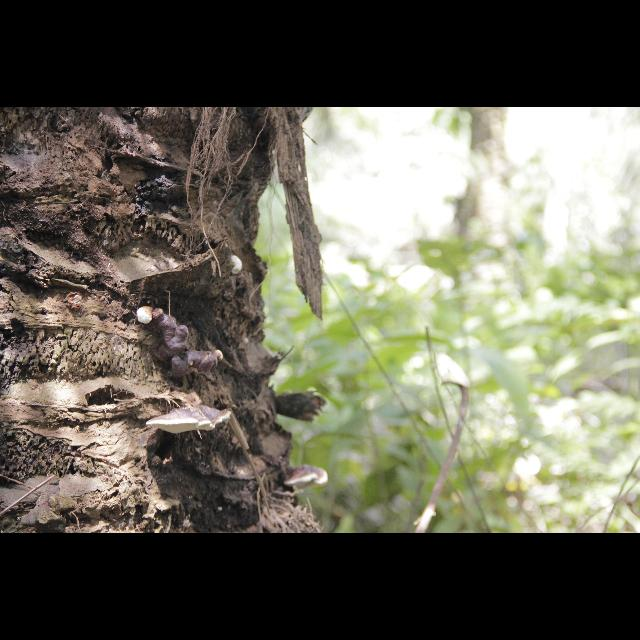ganoderma: (155, 309, 215, 382), (146, 405, 232, 435), (285, 465, 329, 492)
primordium: (138, 307, 155, 325), (232, 256, 244, 276), (216, 351, 224, 364)
